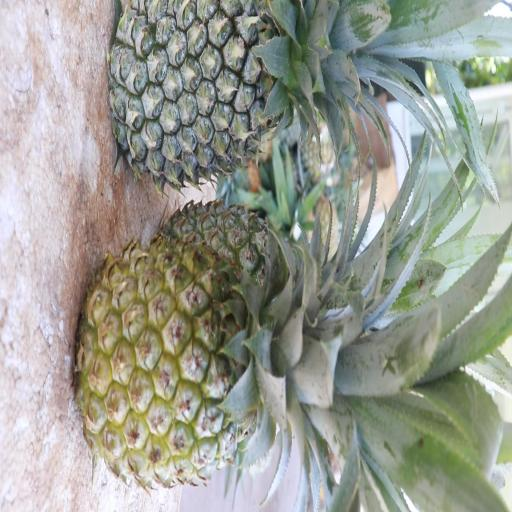------------------------------: (70, 234, 368, 498)
